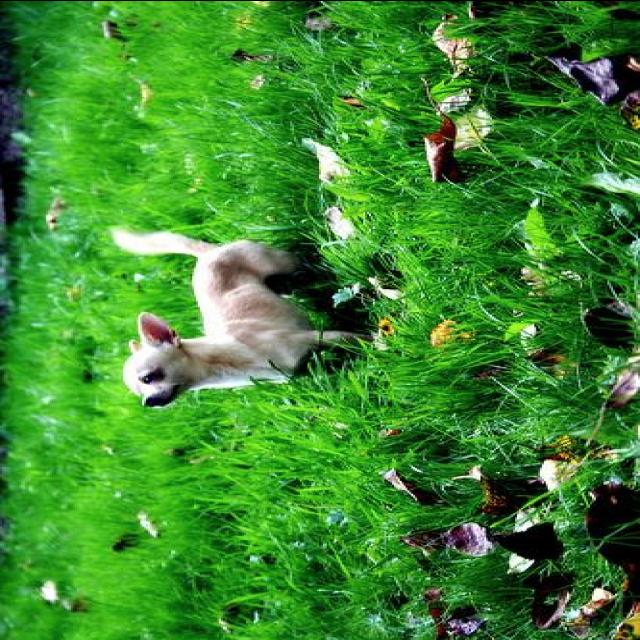chihuahua: (102, 223, 367, 411)
